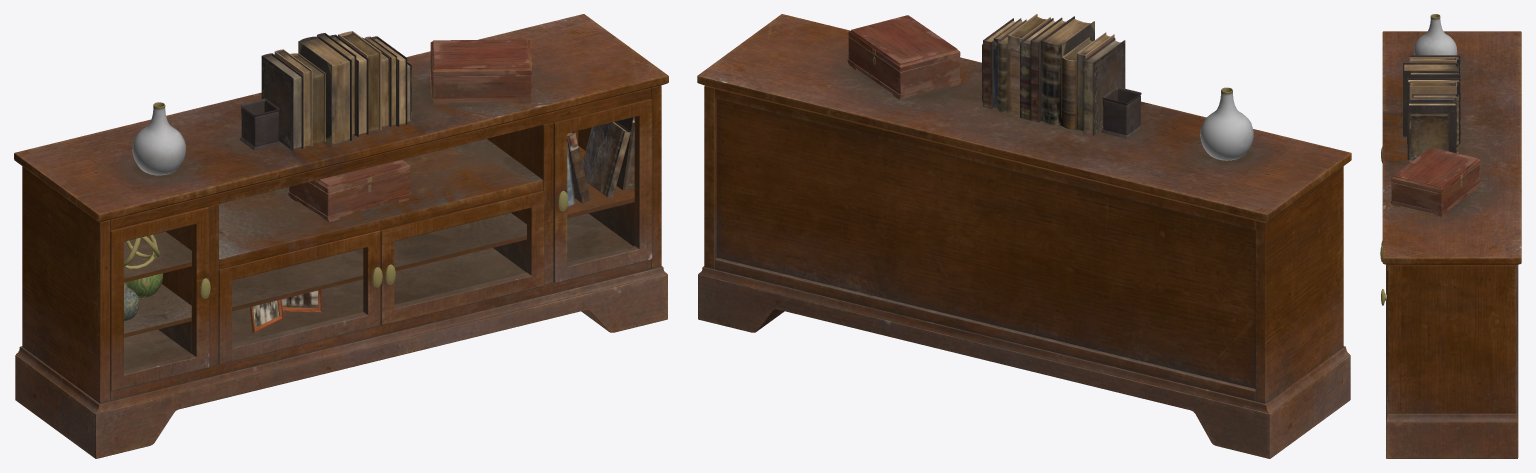
Rendered from storage_2[1].glb.
3 views of the same model, side by side, from view 1: azimuth 30°, elevation 25°; view 2: azimuth 150°, elevation 25°; view 3: azimuth 270°, elevation 25° (orthographic). The views are drawn at different scales.
Parts seen in each view (by area): view 1: XI_AR_Small_Shelf.Shape; view 2: XI_AR_Small_Shelf.Shape; view 3: XI_AR_Small_Shelf.Shape.
Part boxes in pixels (x1,y1,x2,y2): XI_AR_Small_Shelf.Shape: (14, 14, 668, 458); XI_AR_Small_Shelf.Shape: (697, 14, 1351, 458); XI_AR_Small_Shelf.Shape: (1380, 14, 1521, 458).
Size of the model in its own units: 2.02 by 1.1 by 0.5273.
1 material, 1 textured.
